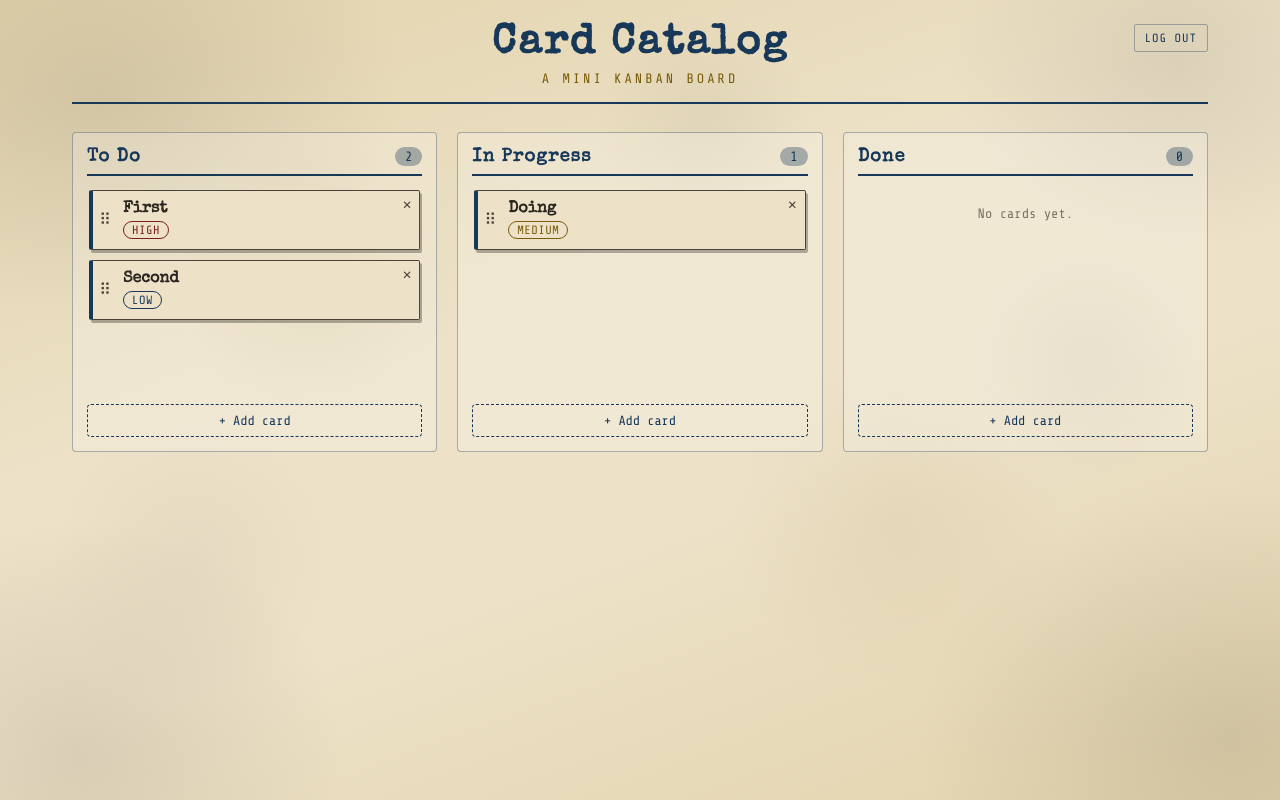
Test: App › shows an error banner and keeps the card when a delete fails
Expected: the heading "Doing" is shown, [508,201,556,217]
Click the button named "Delete card" at (792, 206), box [784,195,801,217]
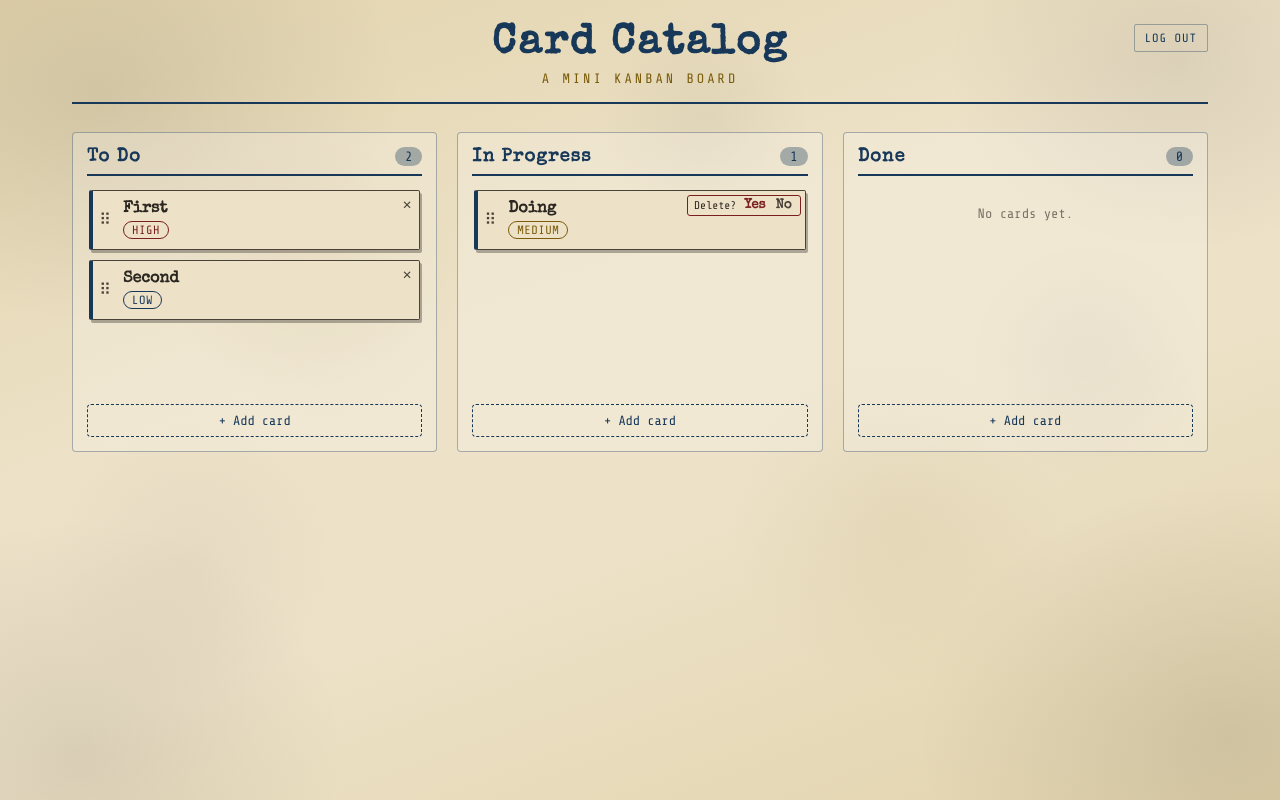
Click the button "Yes" at (755, 206), box [742,199,768,212]
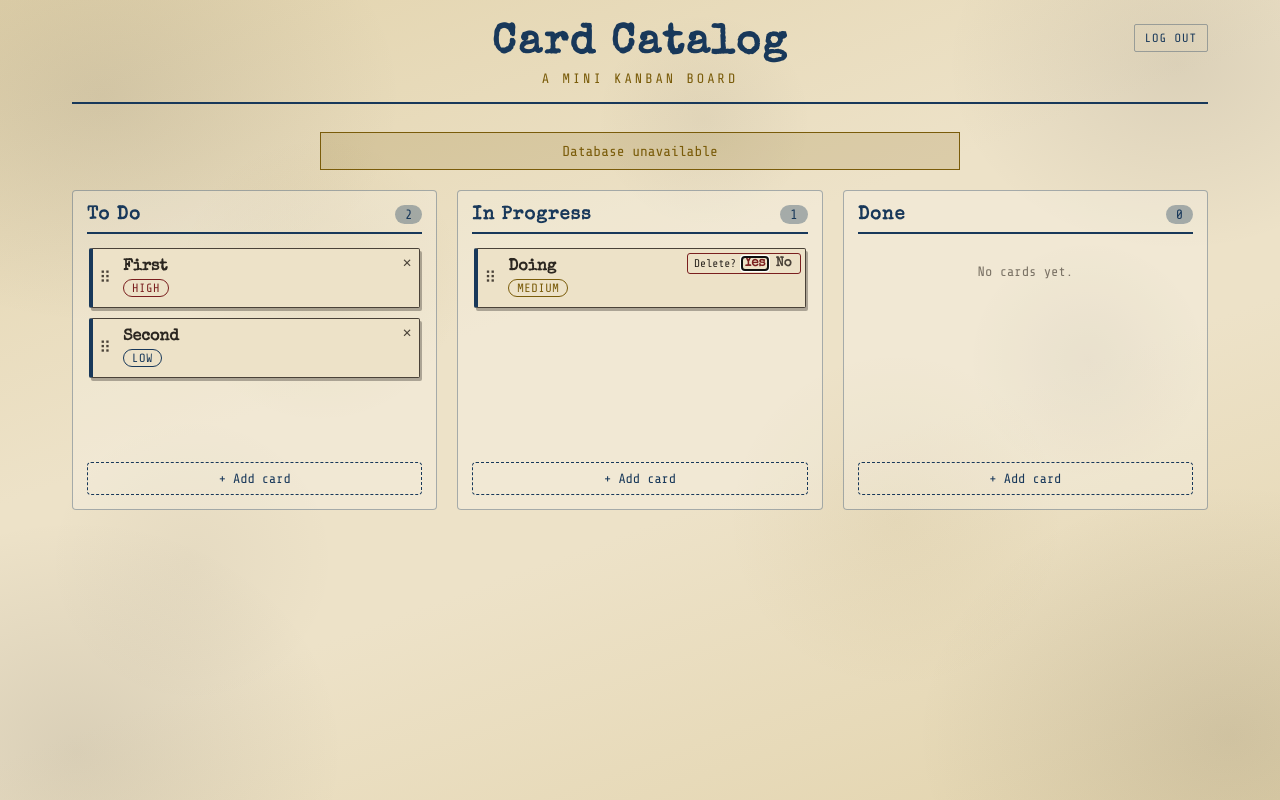
Now the message reads "Database unavailable", box [562,143,718,159]
